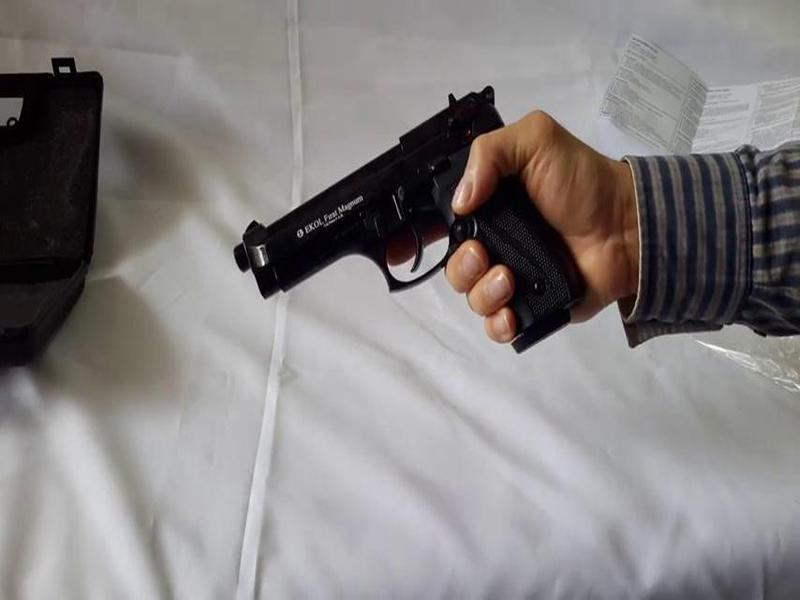Pistola: (237, 77, 591, 340)
